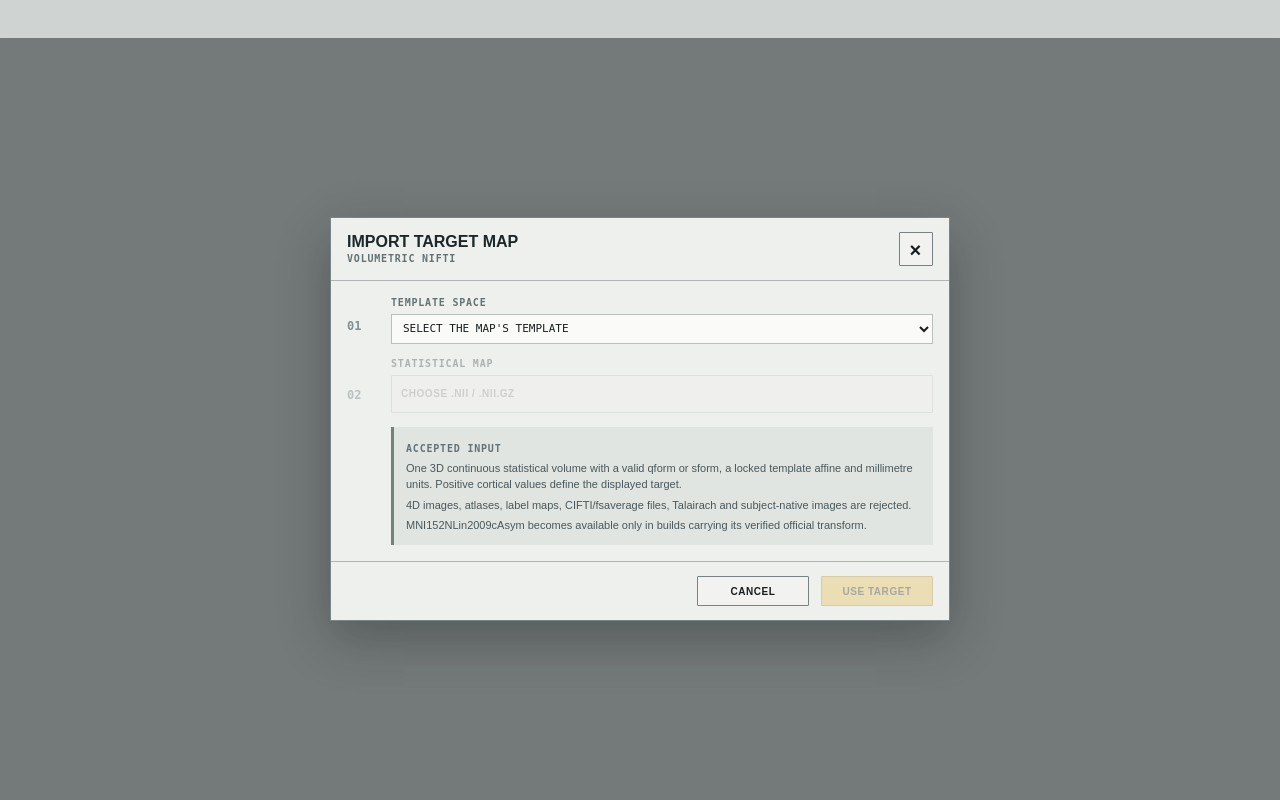
it: TargetMapImportDialog › requires an explicit template before opening the system file dialog
expect the button "CHOOSE .NII / .NII.GZ" is disabled: met, box left=391, top=375, right=933, bottom=413
Step 1. Select "MNI152 · FSL / legacy Neurosynth 2 mm" in the dropdown labelled "TEMPLATE SPACE" → (662, 329), box left=391, top=314, right=933, bottom=344
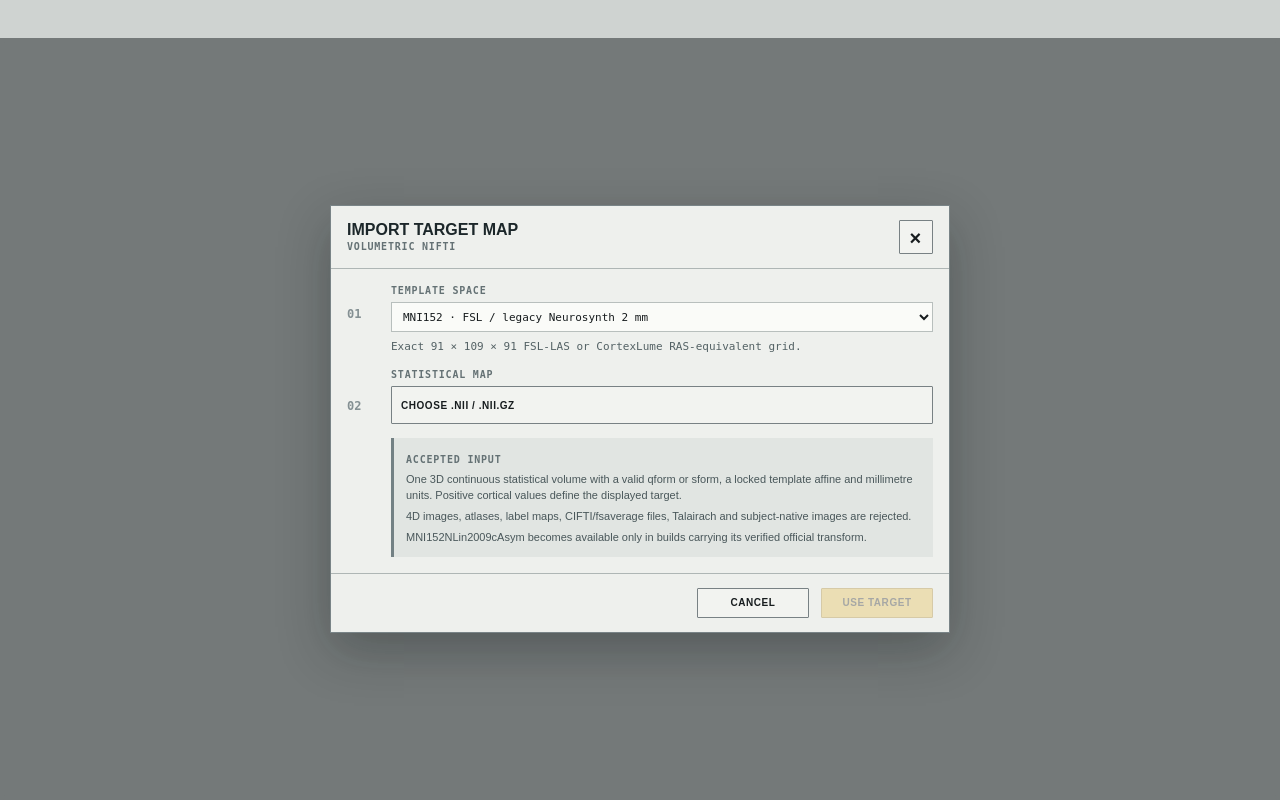
expect the text "4D images, atlases" is shown: met, box left=406, top=510, right=911, bottom=522
expect the button "CHOOSE .NII / .NII.GZ" is enabled: met, box left=391, top=386, right=933, bottom=424
